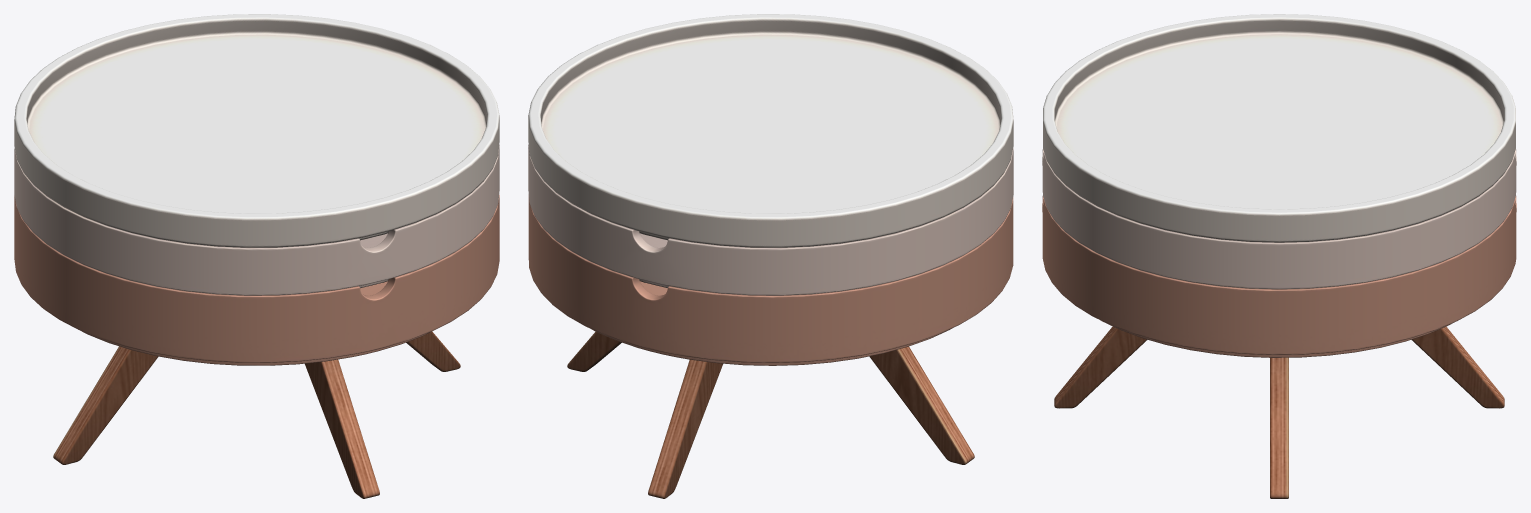
3 views of the same model, side by side, from view 1: azimuth 30°, elevation 25°; view 2: azimuth 150°, elevation 25°; view 3: azimuth 270°, elevation 25° (orthographic). The views are drawn at different scales.
Visible parts, largest first — view 1: COLOUR_BRIGHT001, COLOUR_DARK001, COLOUR_MID001, WOOD001, WOOD_EGDE001; view 2: COLOUR_BRIGHT001, COLOUR_DARK001, COLOUR_MID001, WOOD001, WOOD_EGDE001; view 3: COLOUR_BRIGHT001, COLOUR_DARK001, COLOUR_MID001, WOOD001, WOOD_EGDE001.
Boxes of the visible parts, x1,y1,x2,y2 form: COLOUR_BRIGHT001: (14, 14, 499, 247); COLOUR_DARK001: (14, 195, 499, 365); COLOUR_MID001: (14, 145, 499, 295); WOOD001: (62, 331, 460, 498); WOOD_EGDE001: (53, 331, 459, 498); COLOUR_BRIGHT001: (528, 14, 1013, 247); COLOUR_DARK001: (528, 195, 1013, 365); COLOUR_MID001: (528, 145, 1013, 295); WOOD001: (567, 332, 965, 498); WOOD_EGDE001: (568, 333, 974, 498); COLOUR_BRIGHT001: (1043, 14, 1515, 242); COLOUR_DARK001: (1042, 196, 1516, 357); COLOUR_MID001: (1042, 149, 1516, 289); WOOD001: (1055, 328, 1503, 497); WOOD_EGDE001: (1054, 326, 1504, 498).
Size of the model in its own units: 60 by 40.69 by 60.
Materials: 5 (5 with a texture image).
